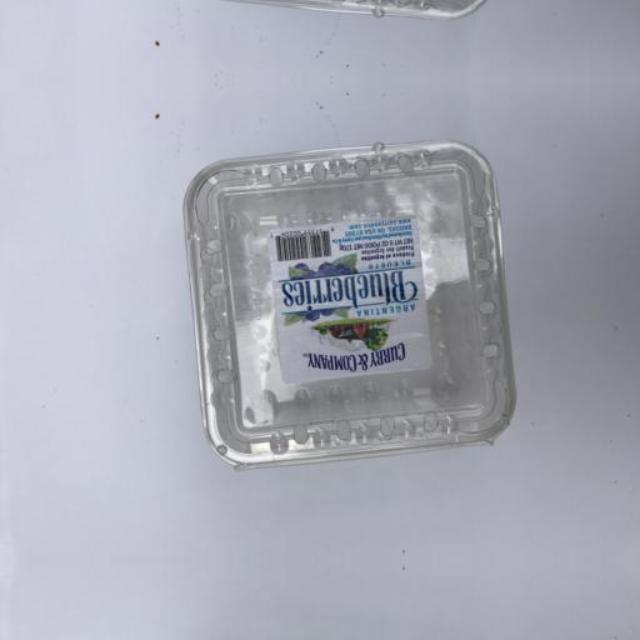Plastic: (138, 132, 572, 494), (138, 0, 571, 28), (138, 625, 571, 640)
